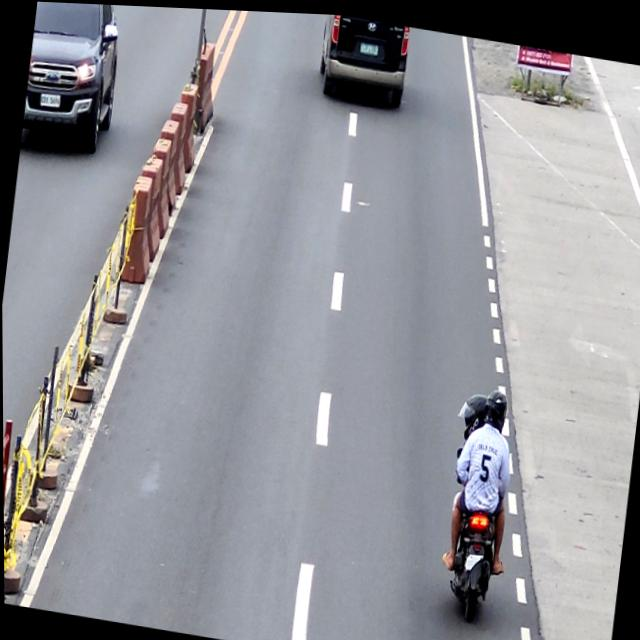Car: (313, 11, 413, 110)
License-Plate: (357, 36, 380, 55)
Motorcycle: (435, 441, 509, 622)
